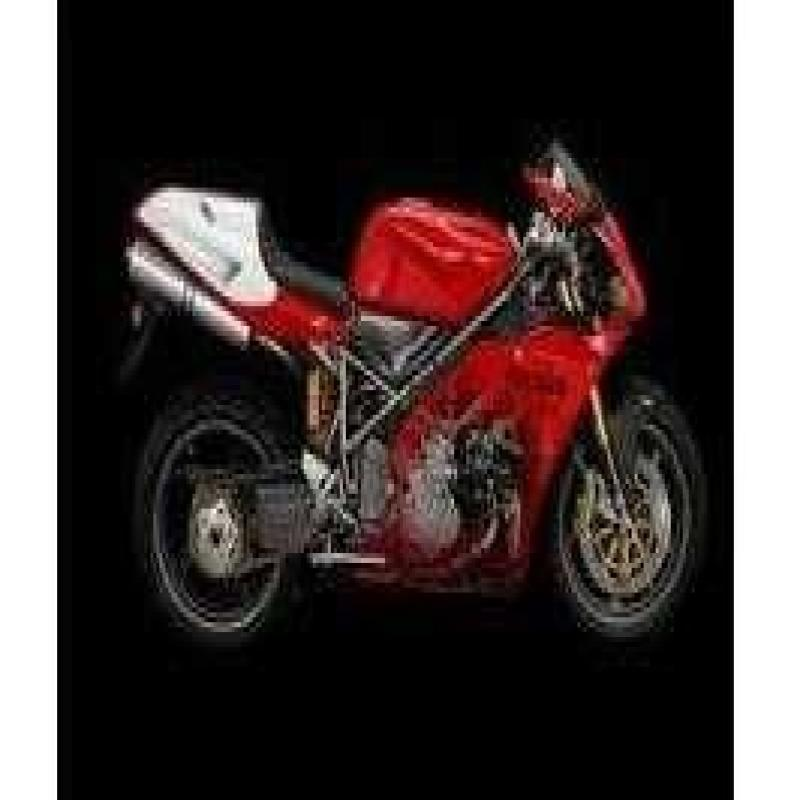bike: (105, 44, 708, 663)
